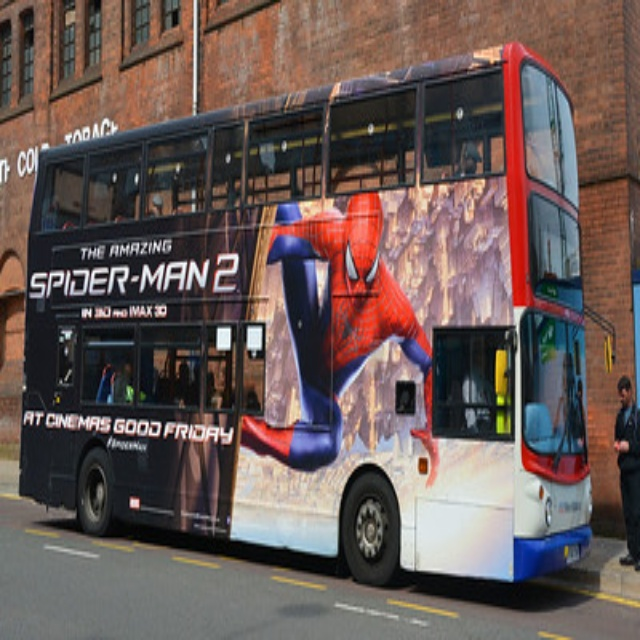Bus: (19, 39, 594, 593)
